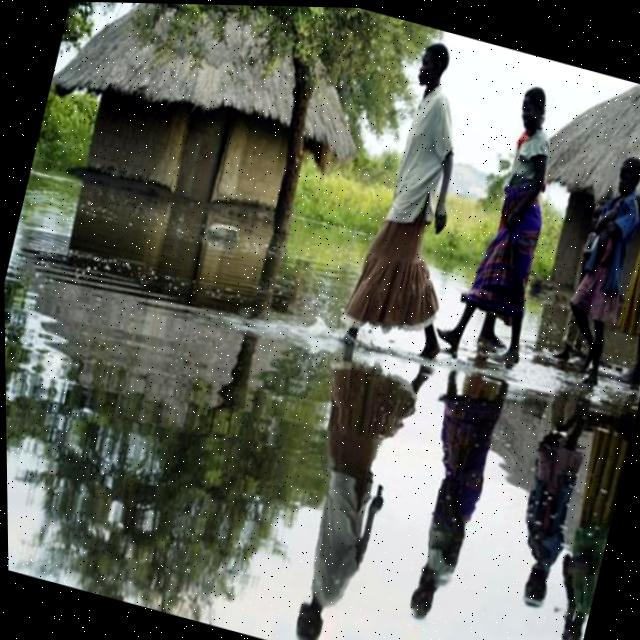civilian: (308, 15, 525, 395), (420, 55, 608, 402), (534, 131, 640, 424), (596, 91, 640, 404)
